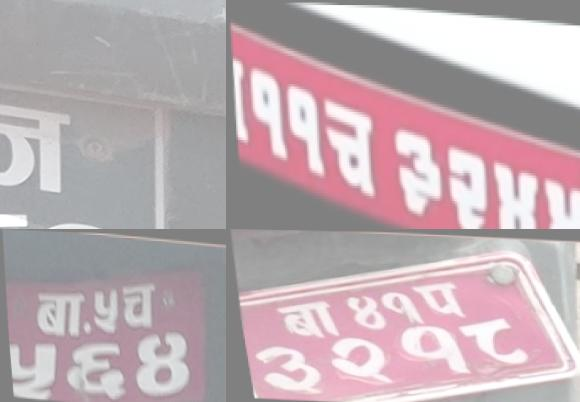1: (279, 79, 328, 183), (243, 63, 288, 163), (391, 322, 465, 373), (378, 289, 420, 321)
2: (437, 137, 489, 229), (323, 336, 387, 378)
3: (382, 121, 442, 214), (246, 344, 319, 394)
4: (129, 325, 194, 402), (483, 151, 540, 229), (535, 171, 580, 229), (341, 294, 385, 326)
5: (7, 335, 59, 401), (86, 281, 120, 338)
6: (62, 335, 128, 402)
8: (452, 316, 523, 360)
ba: (31, 284, 86, 340), (269, 298, 341, 338)
cha: (318, 95, 382, 201), (118, 276, 158, 332)
ja: (0, 88, 82, 200)
pa: (406, 278, 466, 314)
